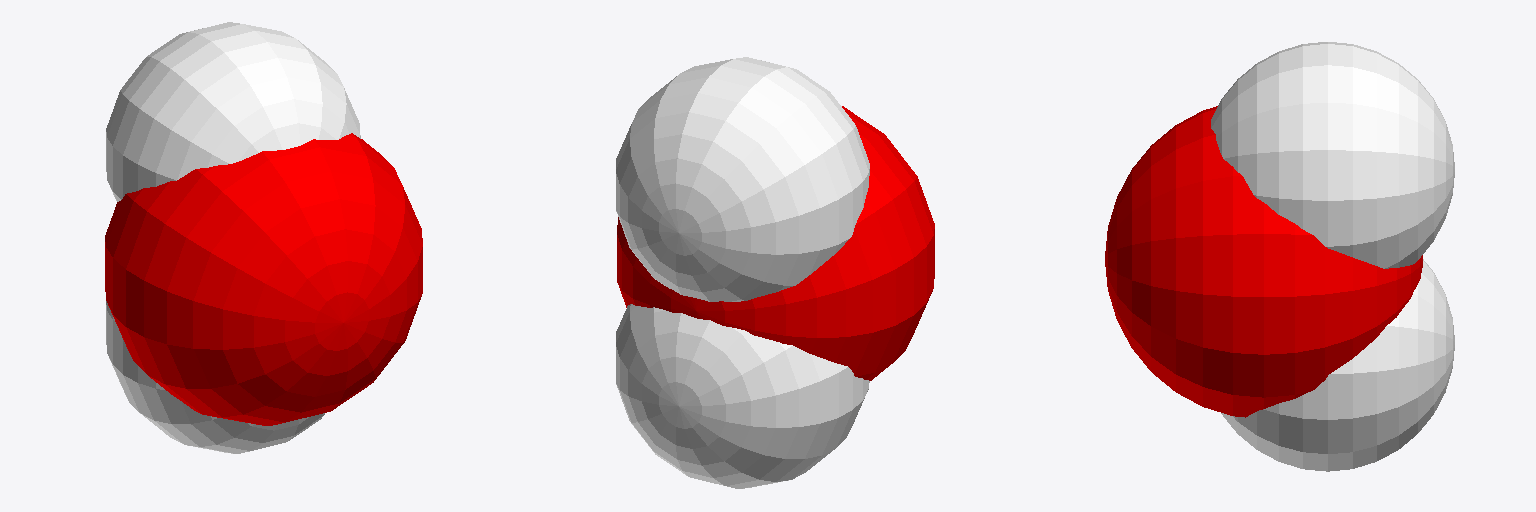
File: water-molecule.obj
3 renders of one model, left to right at view 1: azimuth 30°, elevation 25°; view 2: azimuth 150°, elevation 25°; view 3: azimuth 270°, elevation 25°, orthographic.
Visible parts, largest first — view 1: Vertex_Object_1, Vertex_Object, Vertex_Object_2; view 2: Vertex_Object, Vertex_Object_2, Vertex_Object_1; view 3: Vertex_Object_1, Vertex_Object, Vertex_Object_2.
Boxes of the visible parts, x1,y1,x2,y2 form: Vertex_Object_1: [105, 133, 422, 425]; Vertex_Object: [106, 22, 360, 201]; Vertex_Object_2: [106, 301, 324, 453]; Vertex_Object: [616, 57, 869, 301]; Vertex_Object_2: [616, 304, 869, 488]; Vertex_Object_1: [617, 106, 934, 380]; Vertex_Object_1: [1105, 106, 1422, 417]; Vertex_Object: [1211, 42, 1454, 268]; Vertex_Object_2: [1221, 259, 1454, 471].
Bounding box in the file's own units: 60 × 84 × 66.